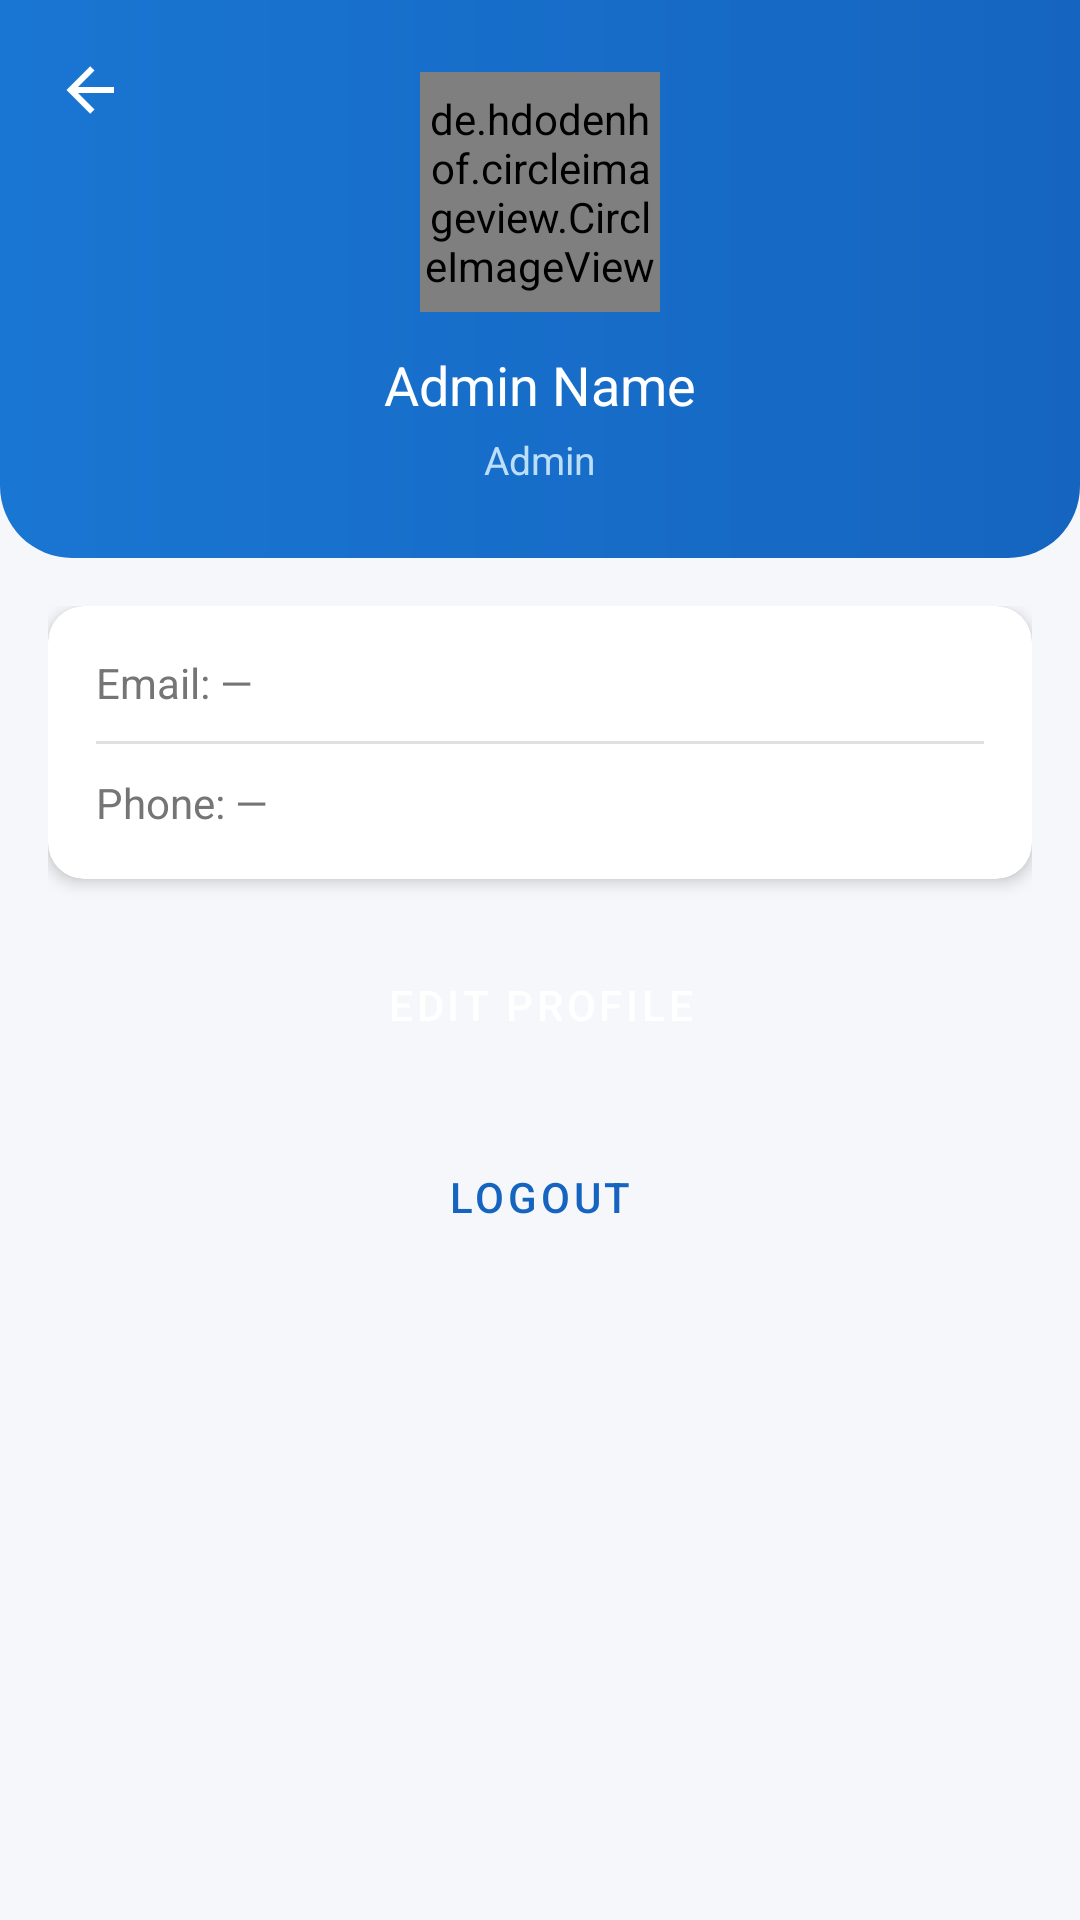

Icon click points for this 1080×1920 phone screenshot, format (x,y):
back: (90,90)
